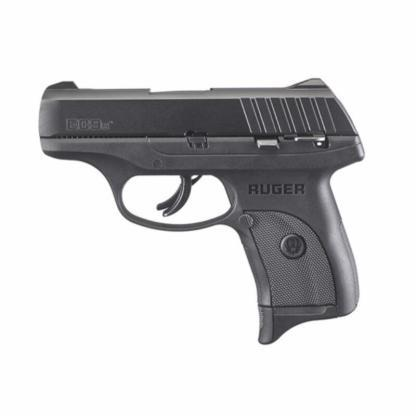Pistol: (32, 75, 367, 345)
